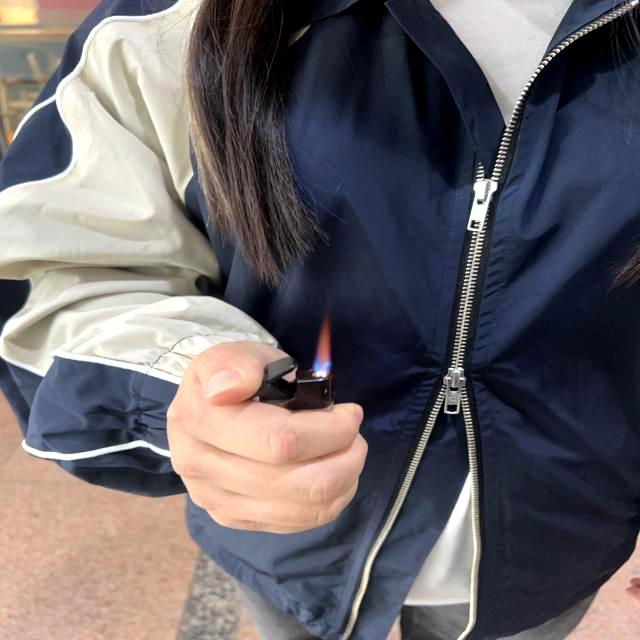fire: (313, 310, 335, 378)
